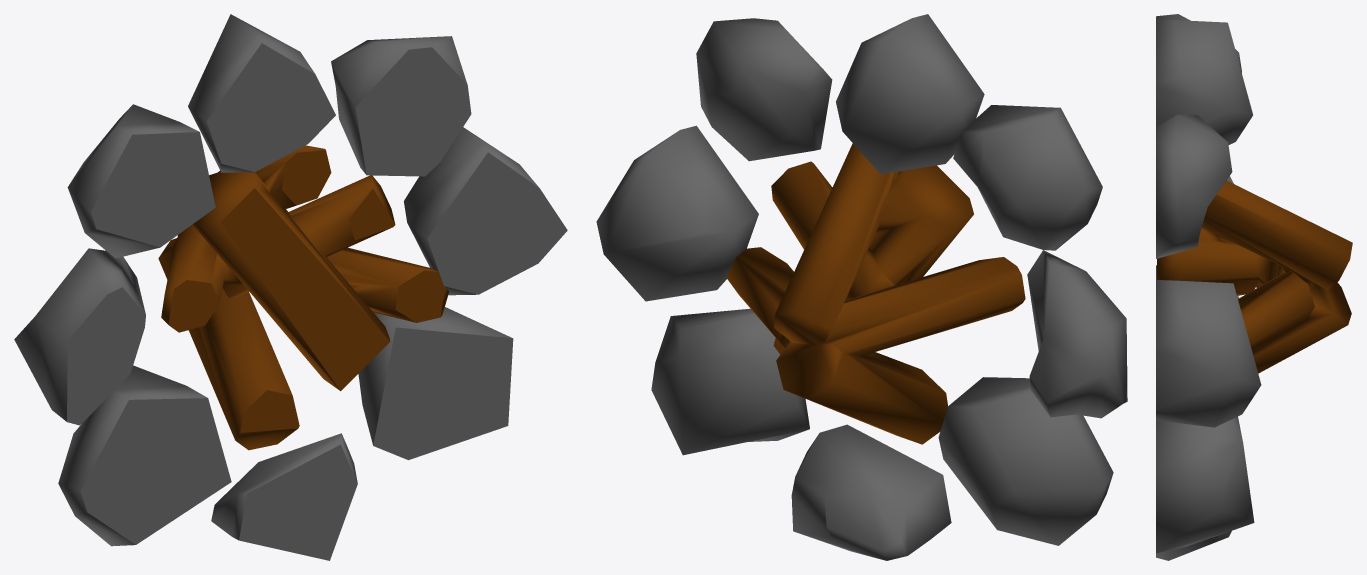
Rendered from Campfire.fbx.
The picture shows the model from 3 angles, left to right: view 1: azimuth 30°, elevation 25°; view 2: azimuth 150°, elevation 25°; view 3: azimuth 270°, elevation 25°; orthographic projection. The views are drawn at different scales.
Visible parts, largest first — view 1: campfire; view 2: campfire; view 3: campfire.
Boxes of the visible parts, box(x1,y1,x2,y2) form: campfire: box(14, 14, 567, 560); campfire: box(596, 14, 1127, 560); campfire: box(1156, 14, 1352, 560).
Size of the model in its own units: 187 by 187 by 65.11.
